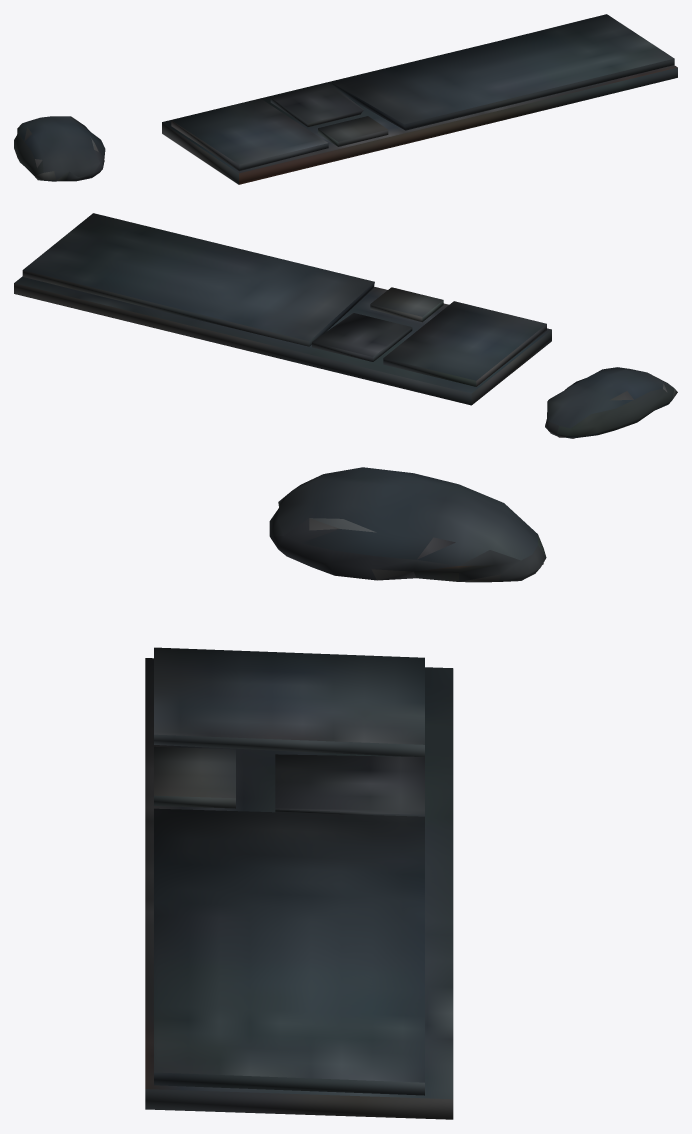
File: office-trading-keyboard.glb
The picture shows the model from 3 angles, top to bottom: view 1: azimuth 30°, elevation 25°; view 2: azimuth 150°, elevation 25°; view 3: azimuth 270°, elevation 25°; orthographic projection. The views are drawn at different scales.
Parts seen in each view (by area): view 1: trading-keyboard; view 2: trading-keyboard; view 3: trading-keyboard.
Part boxes in pixels (x1,y1,x2,y2): trading-keyboard: (14, 14, 677, 184); trading-keyboard: (14, 213, 677, 438); trading-keyboard: (145, 467, 546, 1119).
Bounding box in the file's own units: 0.62 × 0.0456 × 0.1797.
Materials: 1 (1 with a texture image).
